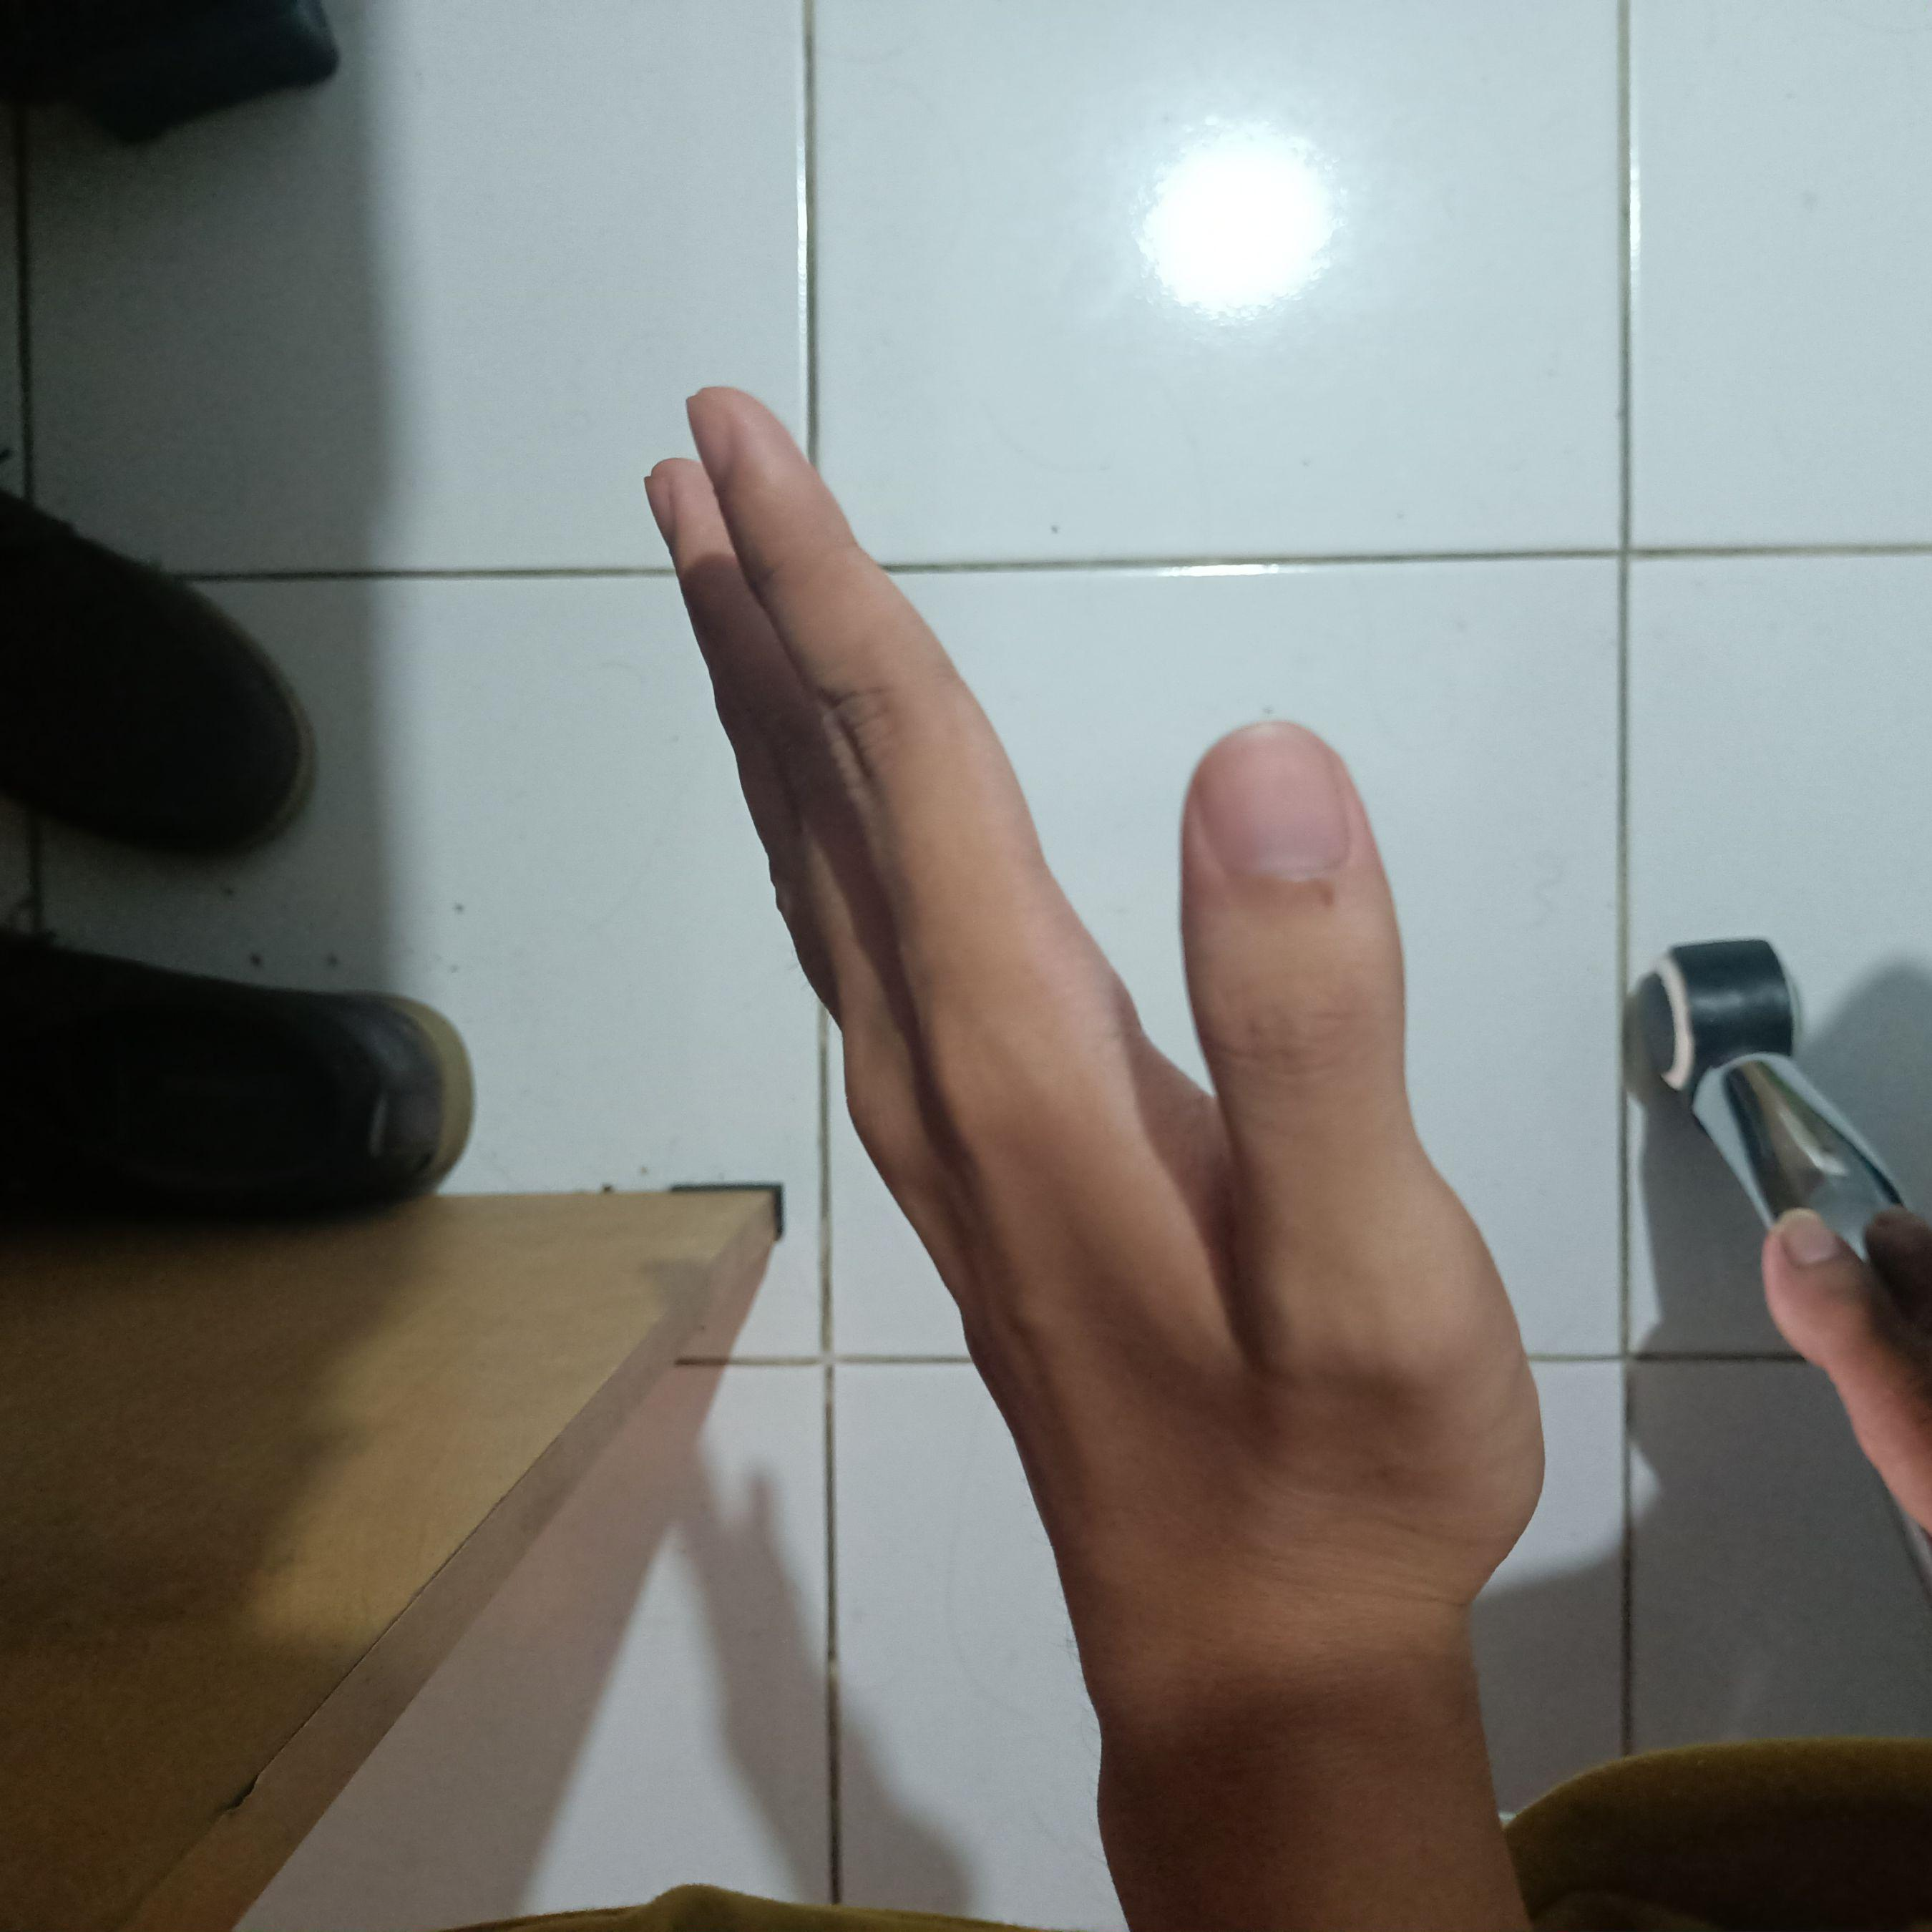paper: (626, 364, 1573, 1755)
